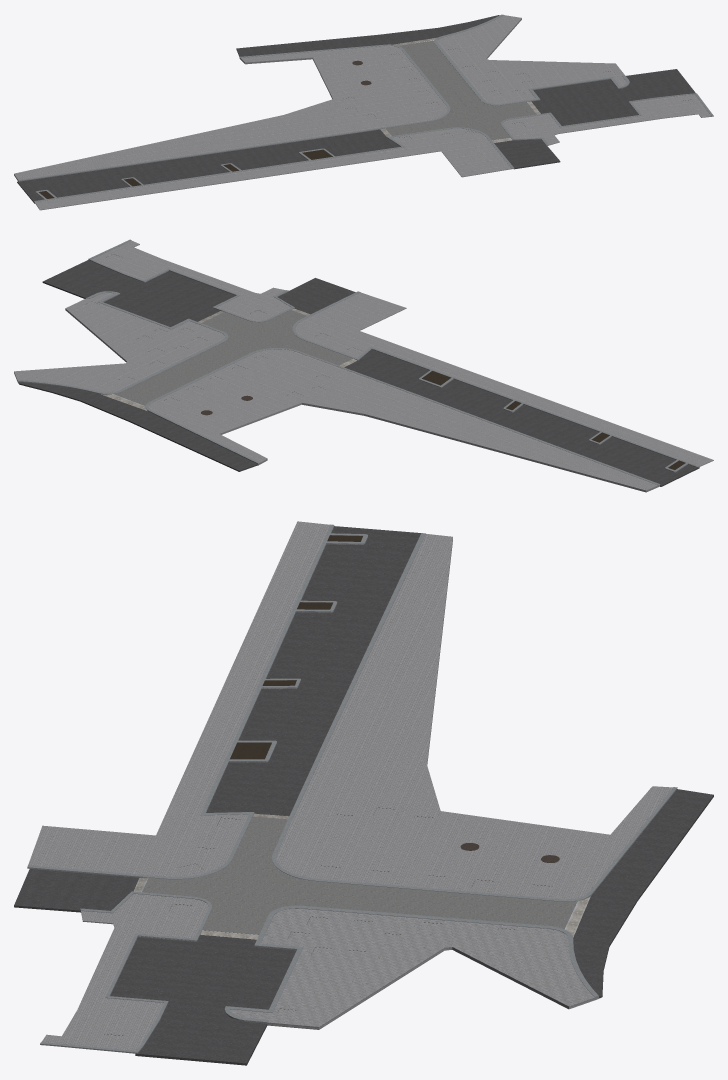
Rendered from kridlovicka4.glb.
3 views of the same model, one above another, from view 1: azimuth 30°, elevation 25°; view 2: azimuth 150°, elevation 25°; view 3: azimuth 270°, elevation 25° (orthographic). The views are drawn at different scales.
Visible parts, largest first — view 1: crossroad only platform modified; view 2: crossroad only platform modified; view 3: crossroad only platform modified.
Part boxes in pixels (x1=…): crossroad only platform modified: x1=14, y1=14, x2=713, y2=210; crossroad only platform modified: x1=14, y1=239, x2=713, y2=492; crossroad only platform modified: x1=14, y1=521, x2=713, y2=1065.
Size of the model in its own units: 131 by 0.4021 by 71.73.
7 materials, 7 textured.
